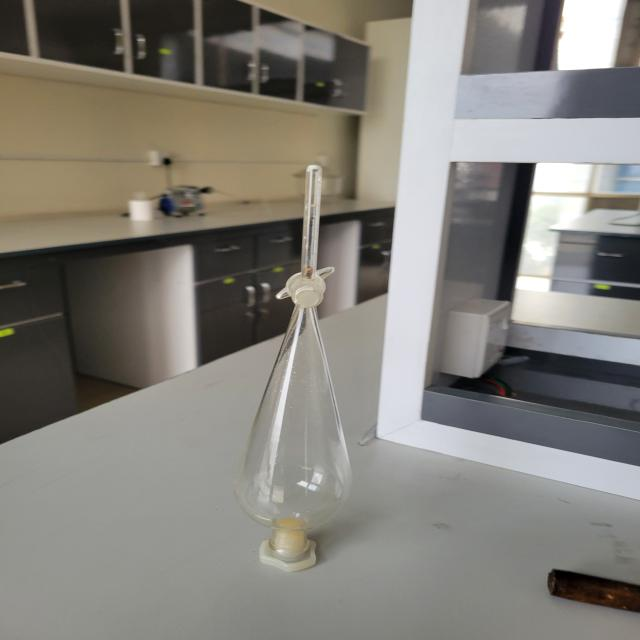Separating_Funnel: (216, 126, 399, 598)
